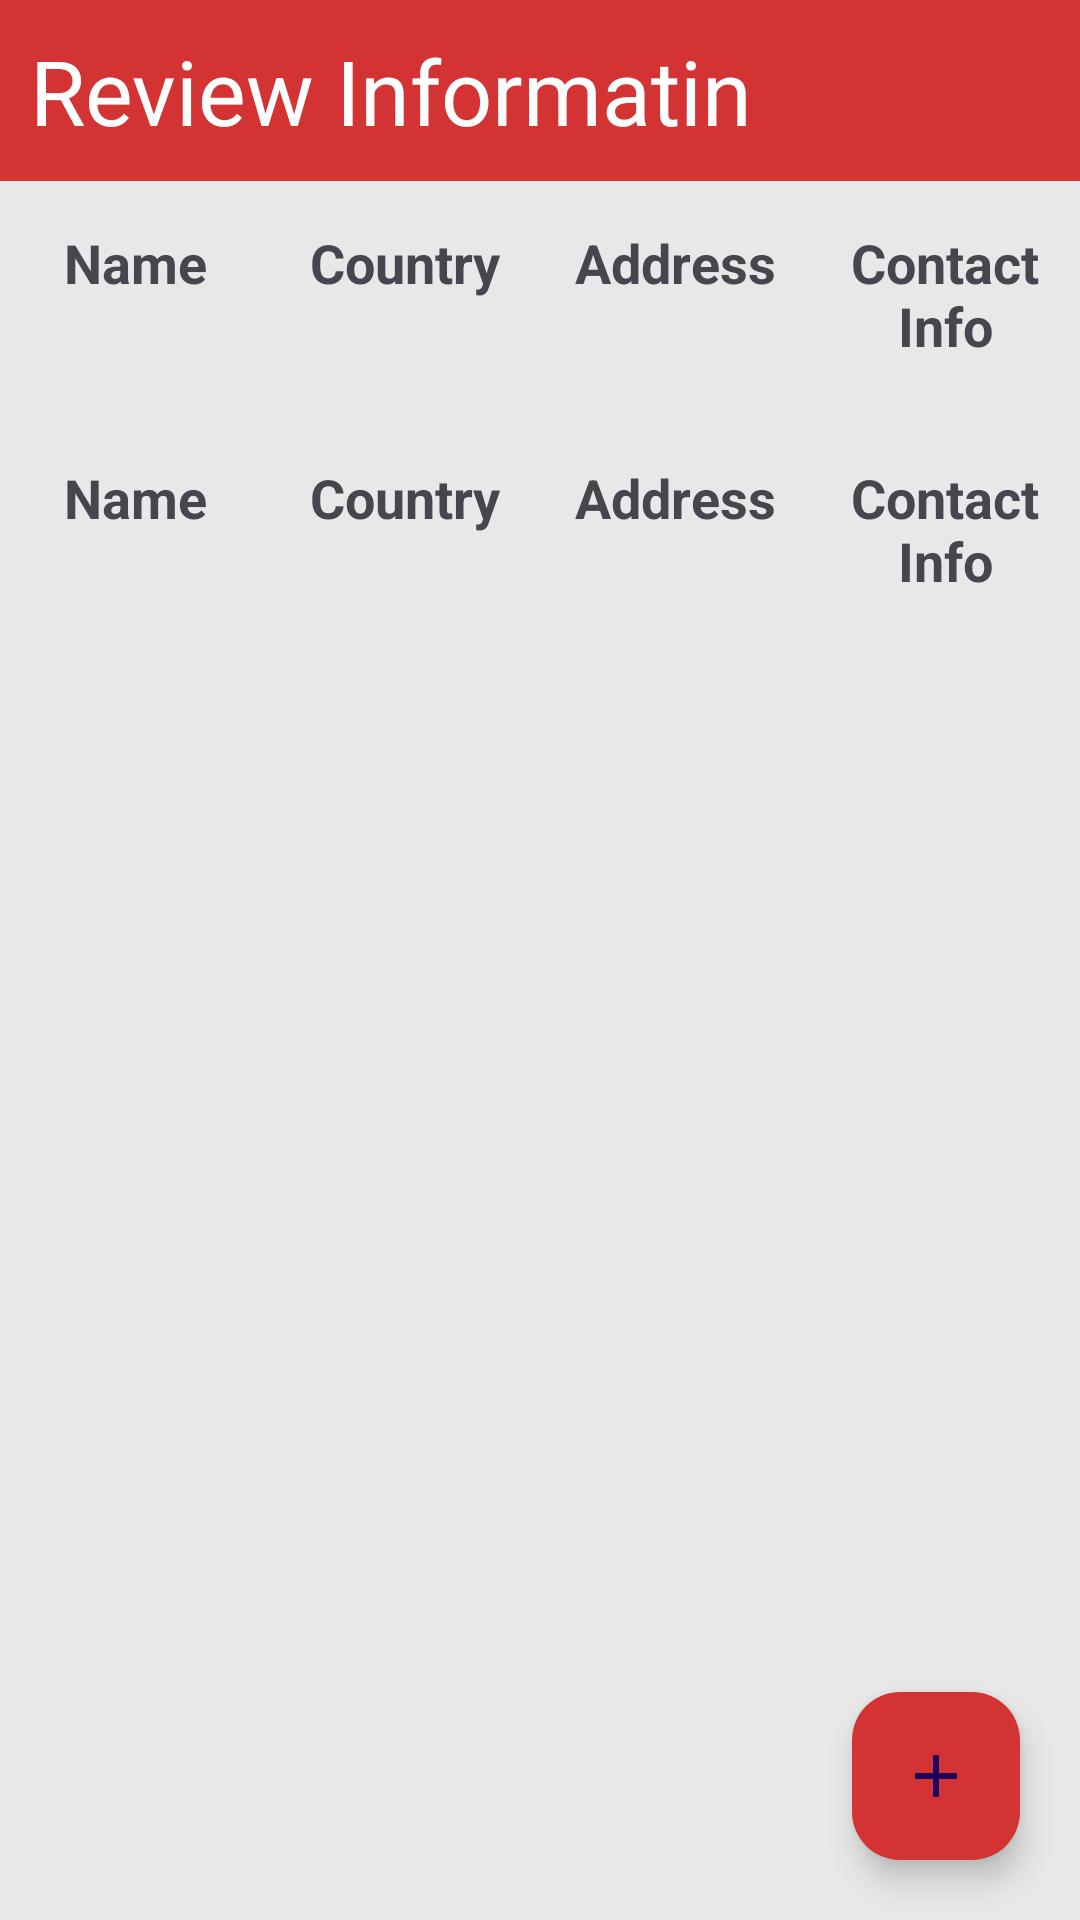

Icons on this 1080w x 1920h Android screen, each with the point to tap as (x=x, y=y):
Add New Record: (x=936, y=1776)
